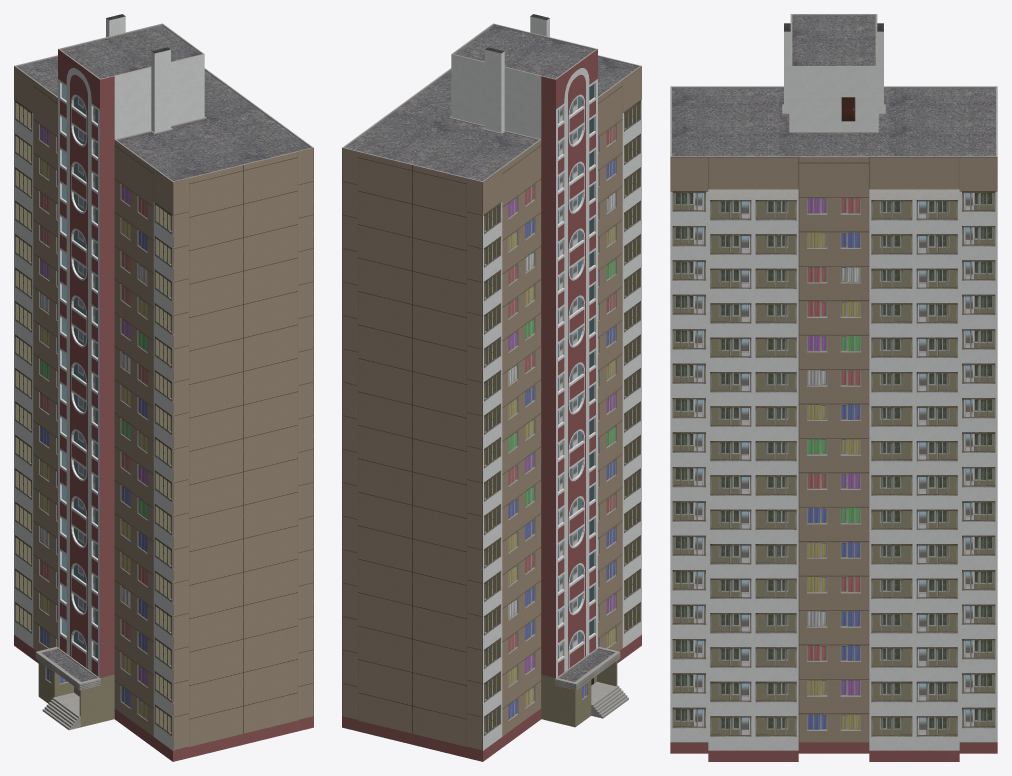
Rendered from flat.glb.
3 views of the same model, side by side, from view 1: azimuth 30°, elevation 25°; view 2: azimuth 150°, elevation 25°; view 3: azimuth 270°, elevation 25° (orthographic). The views are drawn at different scales.
Parts seen in each view (by area): view 1: Cube, Plane.002; view 2: Cube, Plane.002; view 3: Cube, Plane.002.
Part boxes in pixels (x1,y1,x2,y2): Cube: (14, 14, 313, 761); Plane.002: (40, 126, 147, 719); Cube: (342, 14, 641, 761); Plane.002: (508, 126, 615, 719); Cube: (670, 14, 997, 761); Plane.002: (808, 198, 859, 729).
Bounding box in the file's own units: 18.86 × 58.39 × 25.53.
3 materials, 3 textured.
